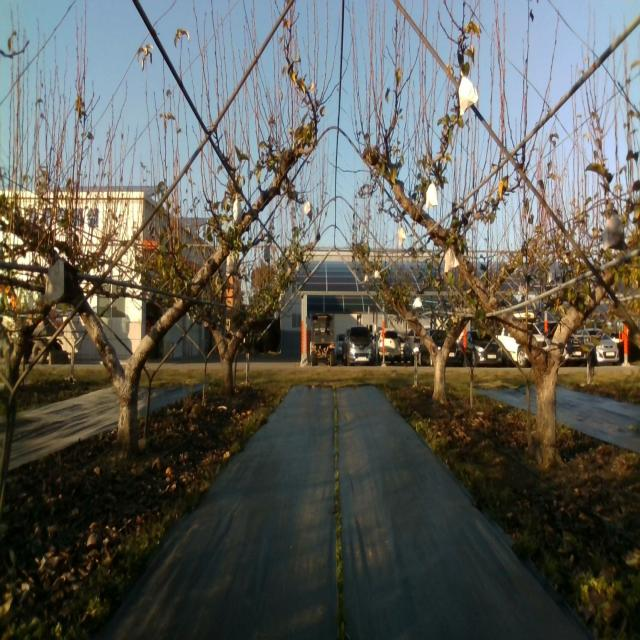pearbags: (602, 208, 627, 250), (458, 71, 479, 117), (443, 247, 459, 273), (425, 182, 438, 210), (226, 250, 237, 276), (396, 226, 406, 247)
